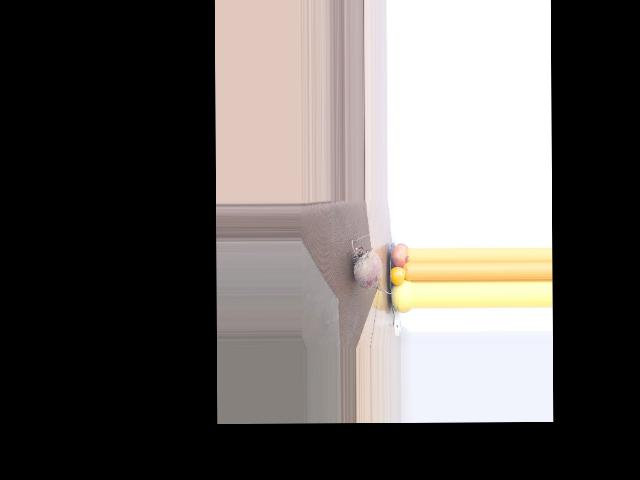beet: (351, 234, 396, 294)
